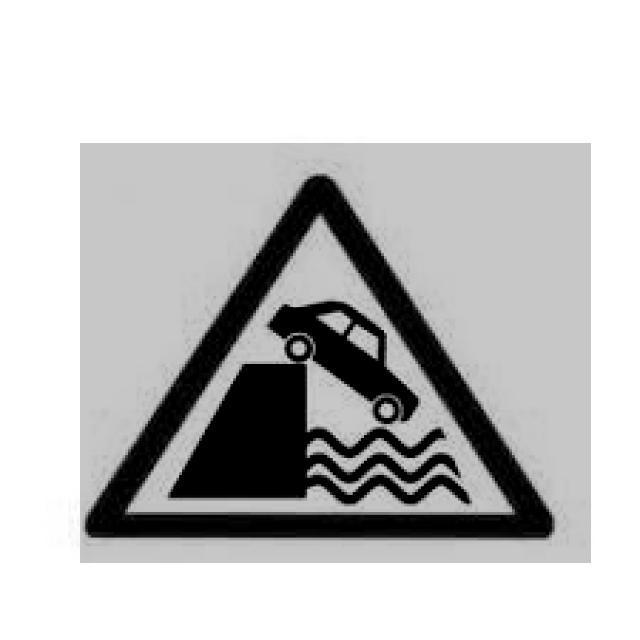quay side or river bank: (84, 171, 556, 537)
